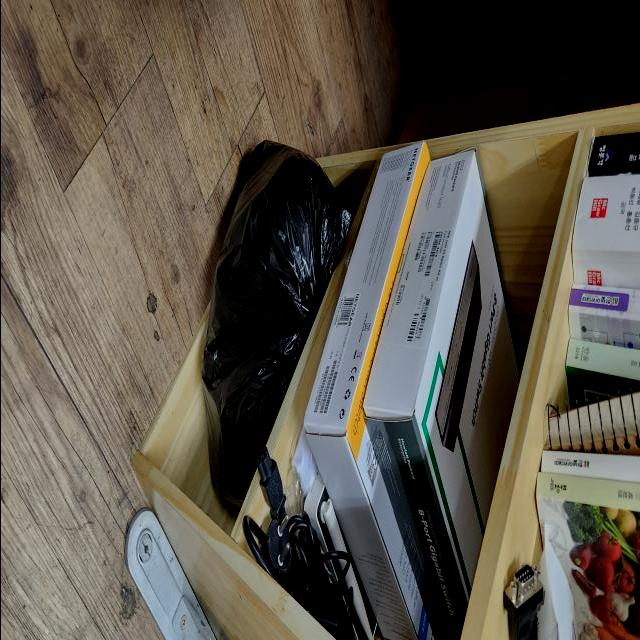black_bag: (199, 141, 354, 521)
